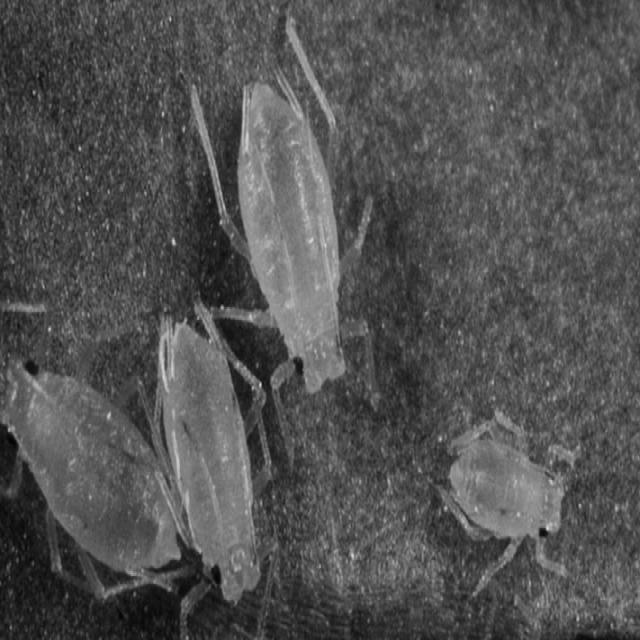aphid: (218, 29, 398, 463), (141, 300, 283, 630), (433, 392, 597, 608)
